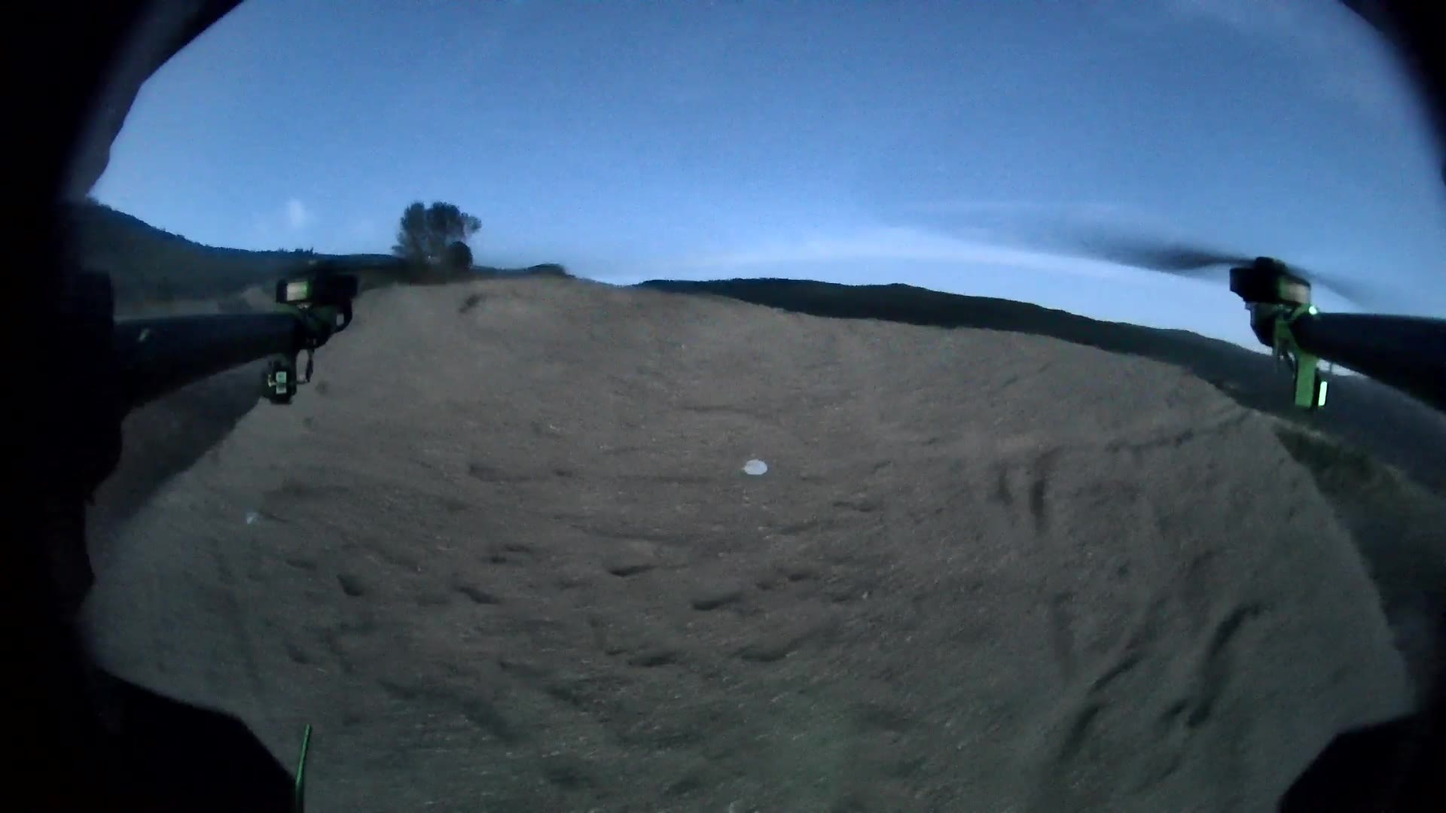Target: (742, 458, 769, 475)
